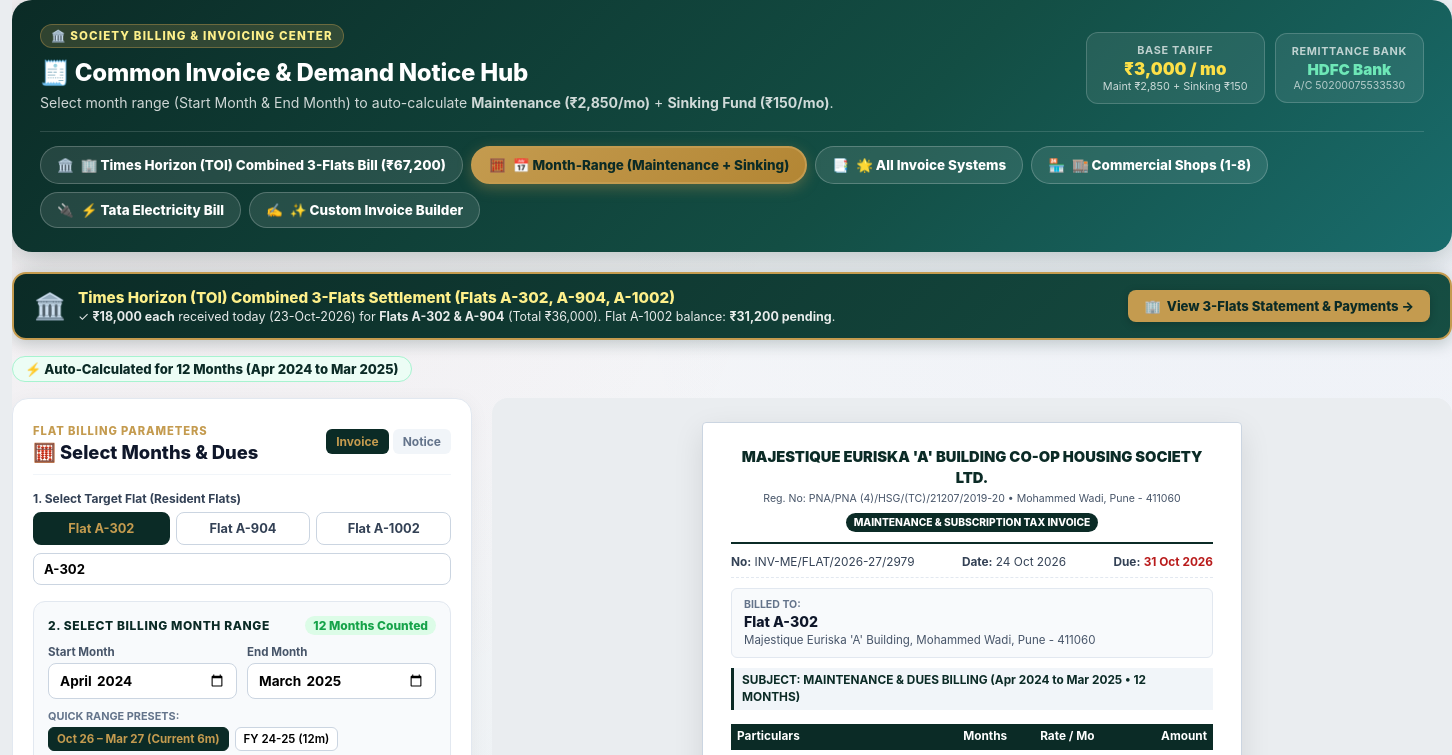
CommonInvoiceHub Component › switches to Custom Invoice Builder and allows adding/editing line items
The width and height of the screenshot is (1452, 755).
# Switch to Custom Invoice Builder
Step 1. Click the button "✍️ ✨ Custom Invoice Builder" → (365, 210), box [249,192,480,228]
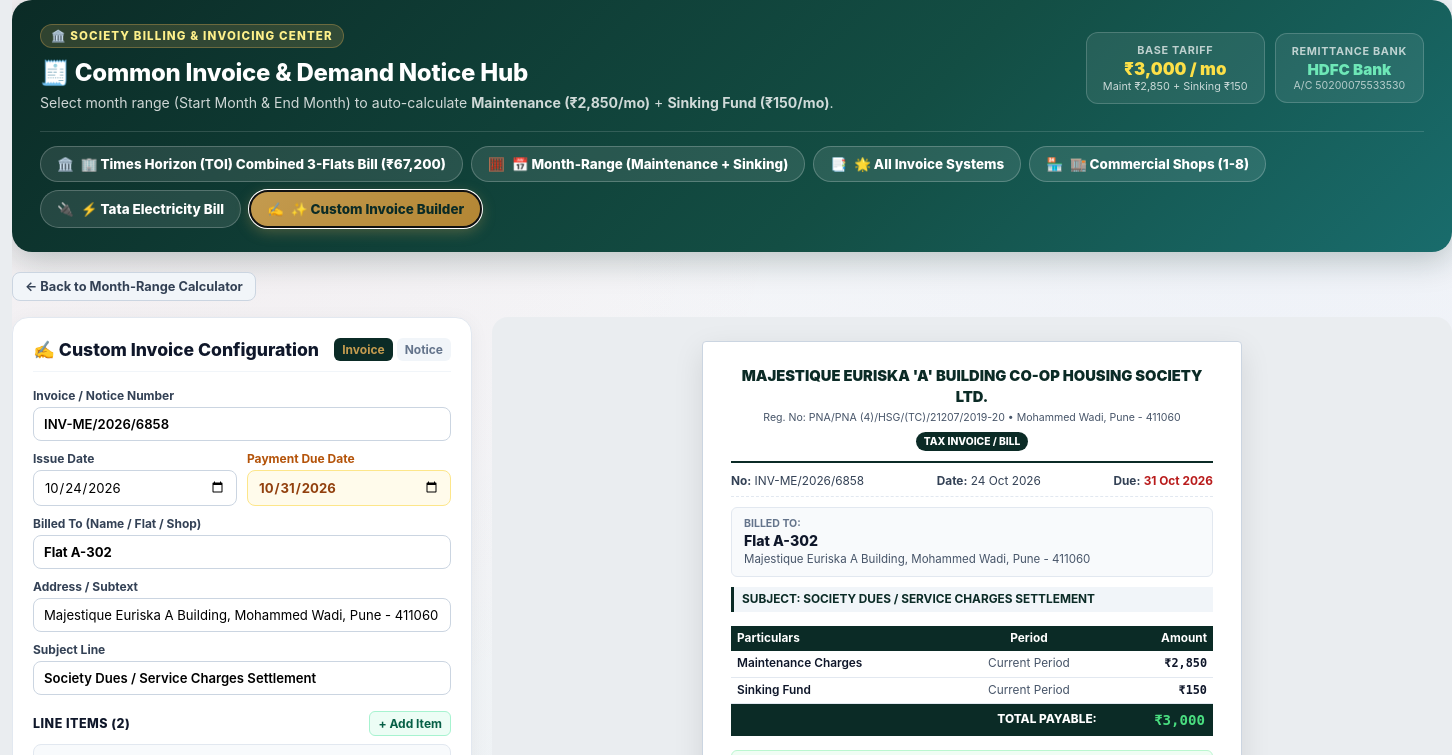
expect the heading "✍️ Custom Invoice Configuration" is shown: met, box [33,339,319,360]
expect the button "+ Add Item" is shown: met
# Click + Add Item
Step 2. Click the button "+ Add Item" → (410, 723), box [369,711,451,736]
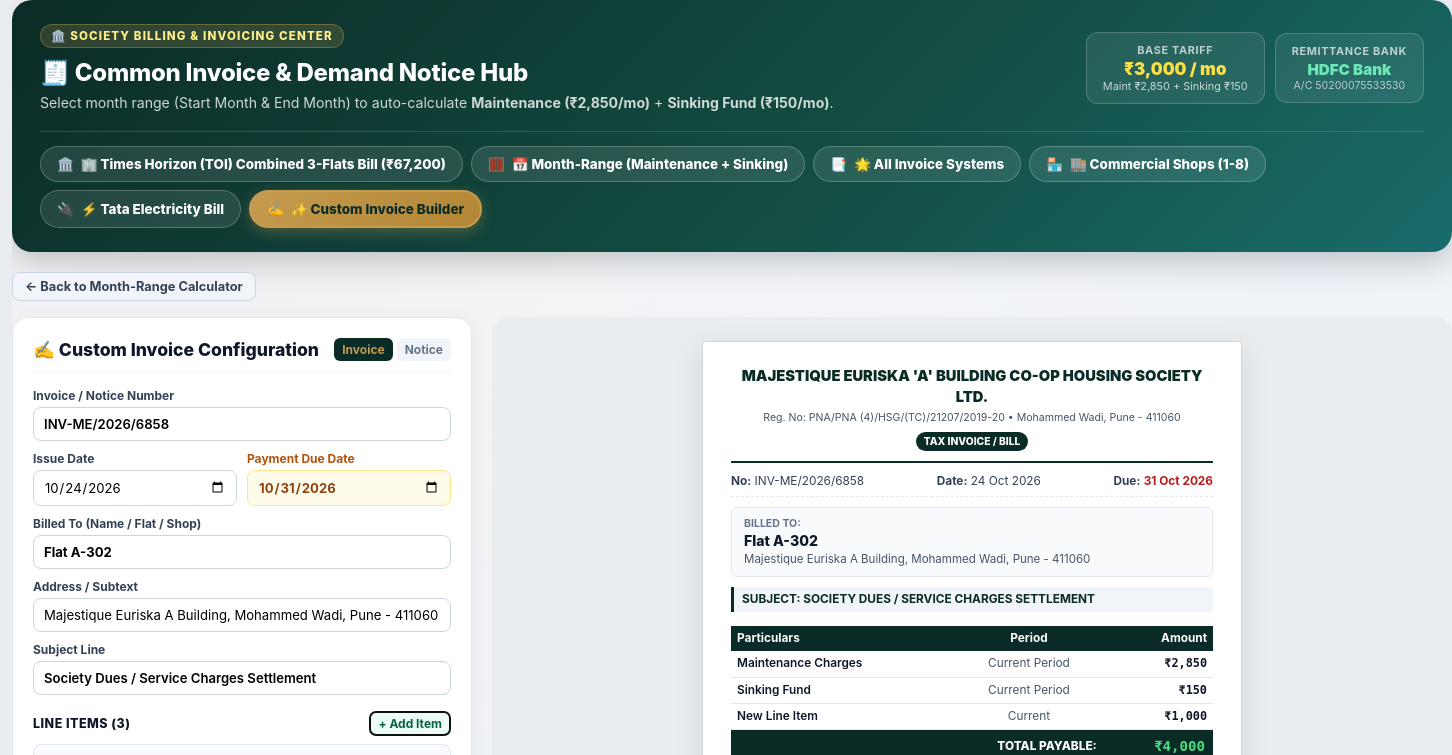
expect the text "Line Items (3)" is shown: met, box [33,716,131,731]
# Toggle to Notice
Step 3. Click the button "Notice" → (424, 349), box [397,338,451,361]
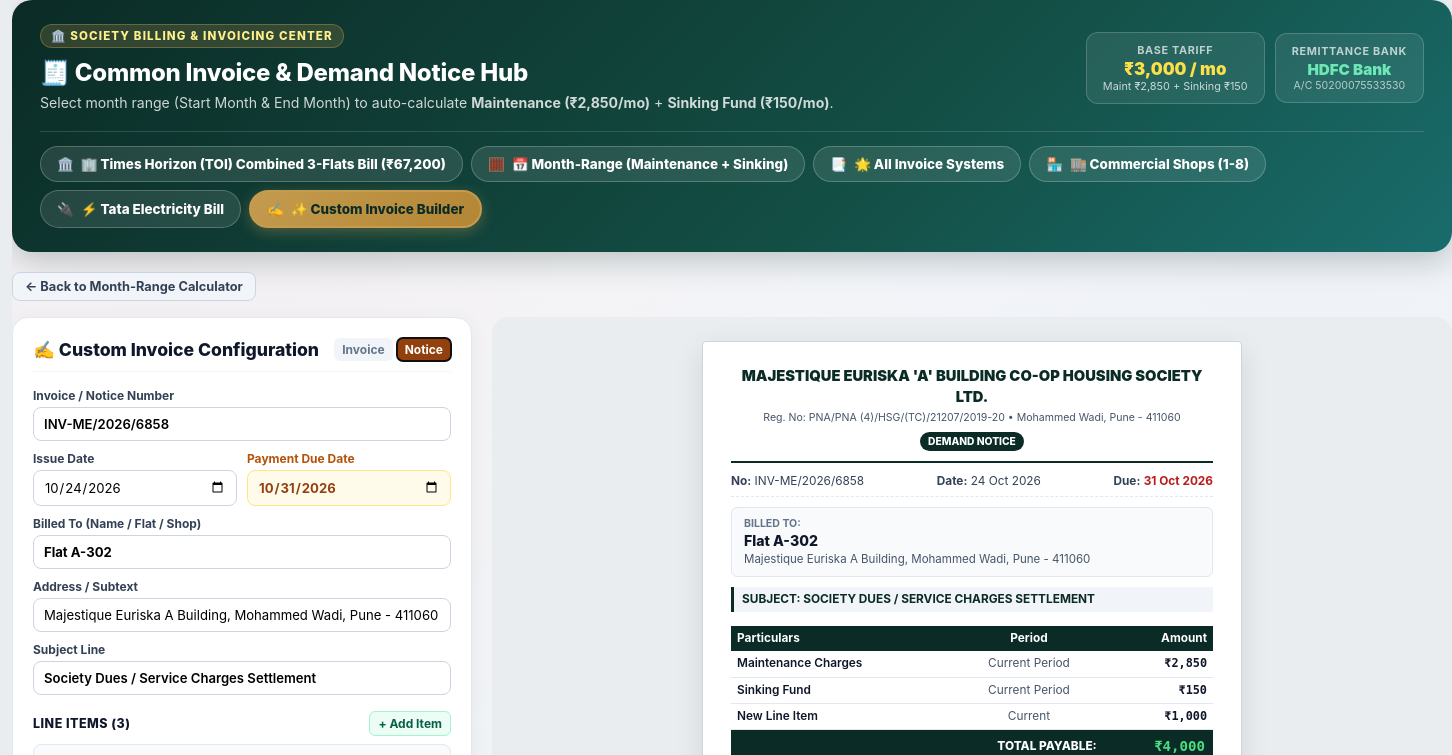
# Back to Month-Range Calculator
Step 4. Click the button "← Back to Month-Range Calculator" → (134, 286), box [12,272,256,301]
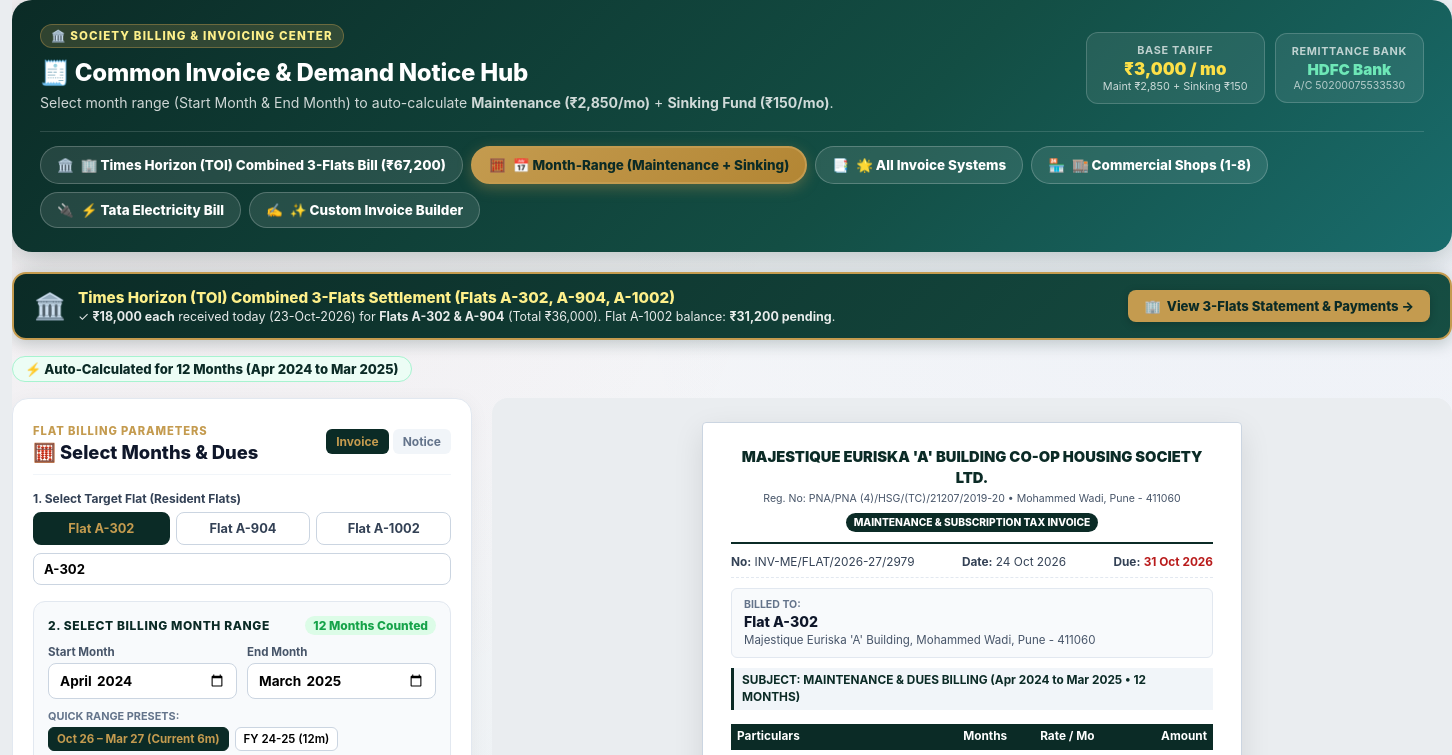
expect the text "2. Select Billing Month Range" is shown: met, box [48,618,270,633]
